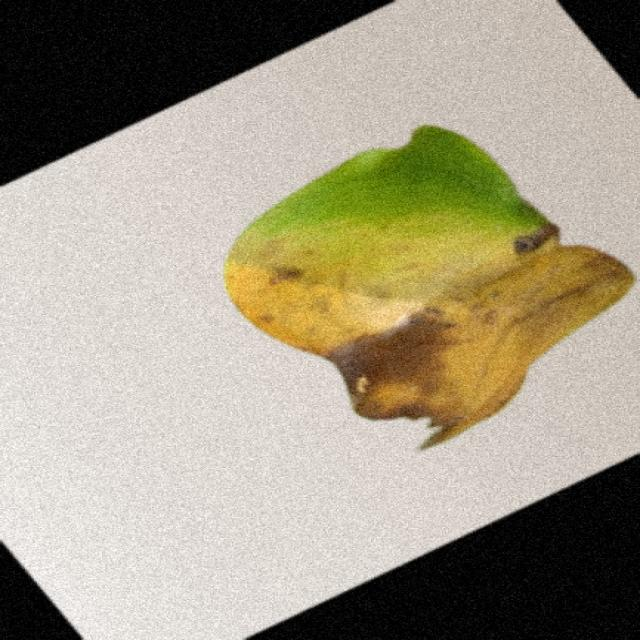daun berpenyakit kuning: (225, 126, 633, 447)
